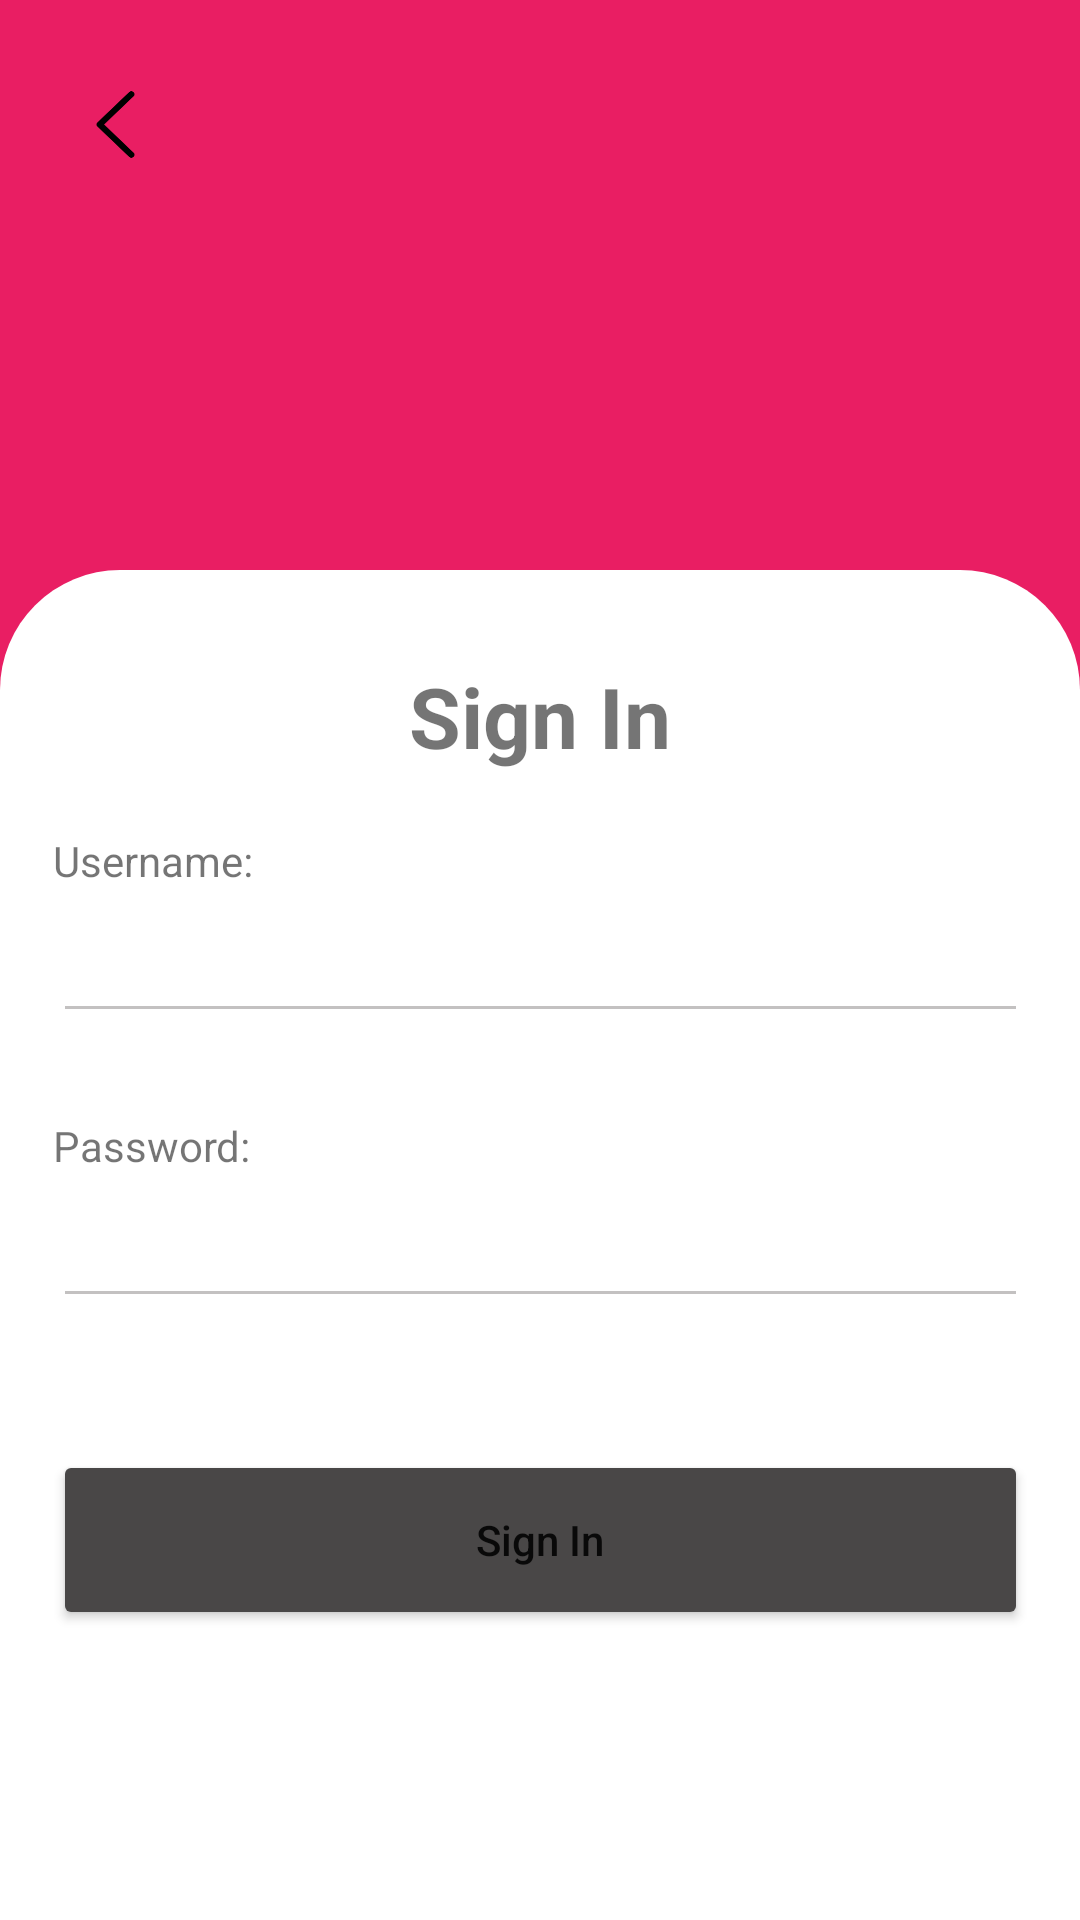

Screen size 1080×1920. Icon name, then its box in pixels as detection(x1, y1, x2, y2):
back: detection(96, 91, 135, 158)
